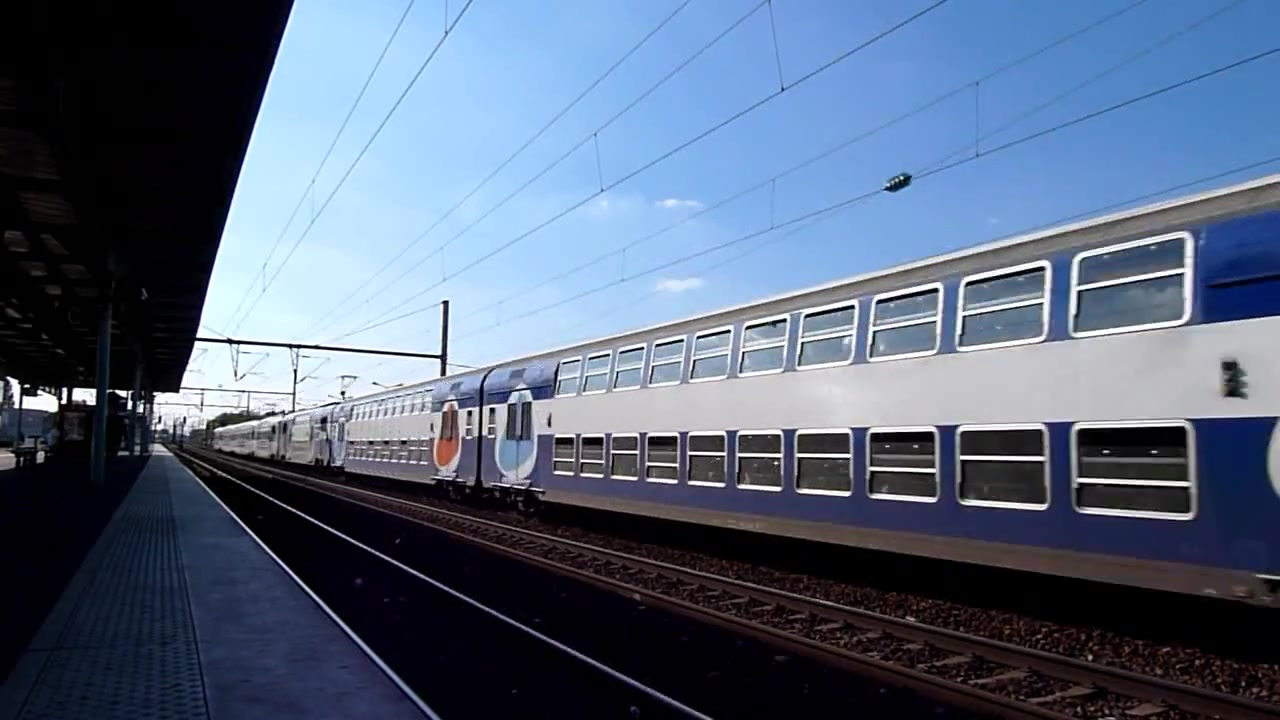train: (209, 174, 1280, 574)
